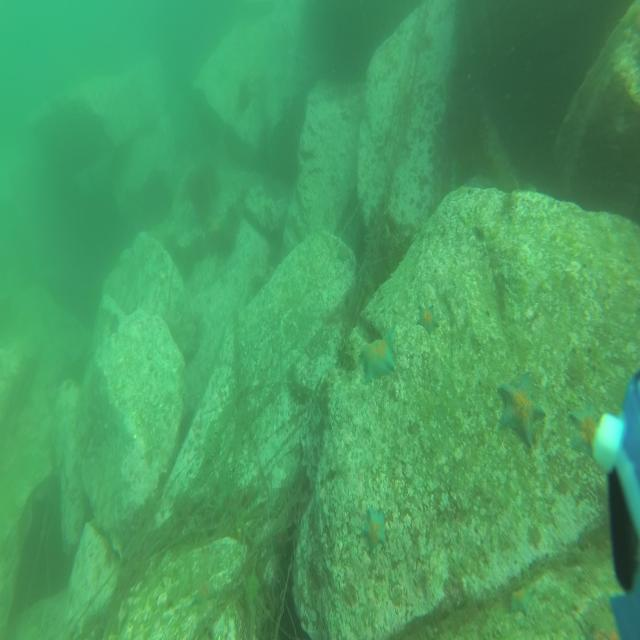holothurian: (335, 333, 363, 373)
starfish: (498, 367, 547, 449), (358, 323, 398, 384), (567, 399, 599, 461), (360, 505, 387, 555), (509, 585, 537, 618), (416, 302, 440, 337), (192, 577, 218, 609), (206, 215, 223, 239), (335, 243, 352, 265), (340, 108, 351, 123)
